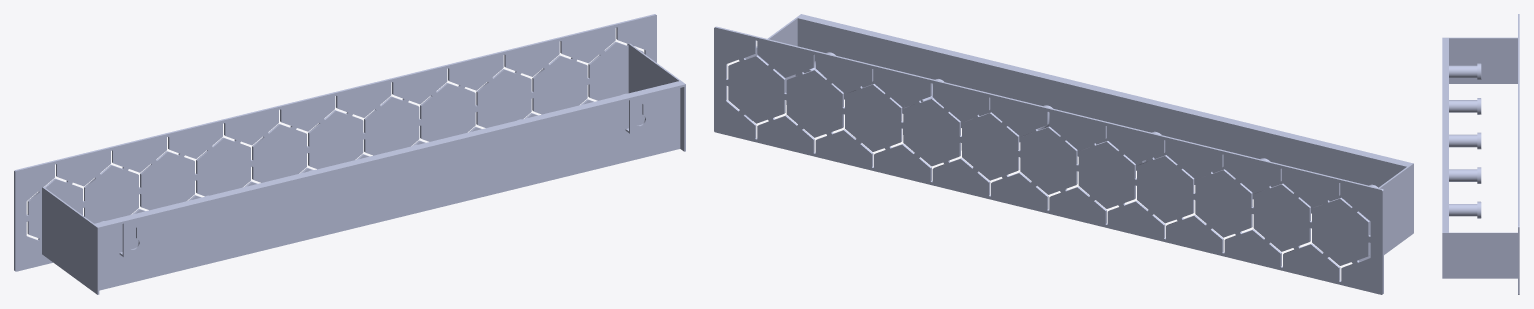
Rendered from bee-hook.e8130031e3.glb.
3 renders of one model, left to right at view 1: azimuth 30°, elevation 25°; view 2: azimuth 150°, elevation 25°; view 3: azimuth 270°, elevation 25°, orthographic. The views are drawn at different scales.
Visible parts, largest first — view 1: NAUO1; view 2: NAUO1; view 3: NAUO1.
Boxes of the visible parts, x1=… form: NAUO1: x1=14, y1=14, x2=685, y2=294; NAUO1: x1=714, y1=14, x2=1413, y2=294; NAUO1: x1=1442, y1=14, x2=1519, y2=294.
Size of the model in its own units: 0.6 by 0.09 by 0.092.
